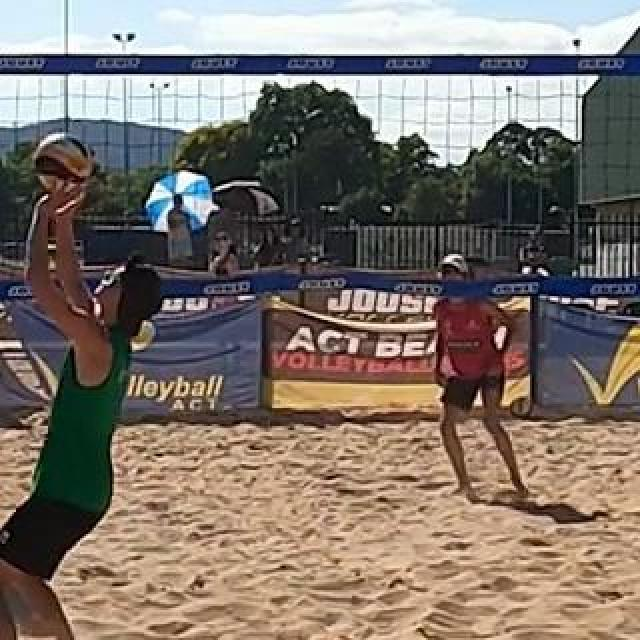volleyball: (36, 134, 92, 194)
